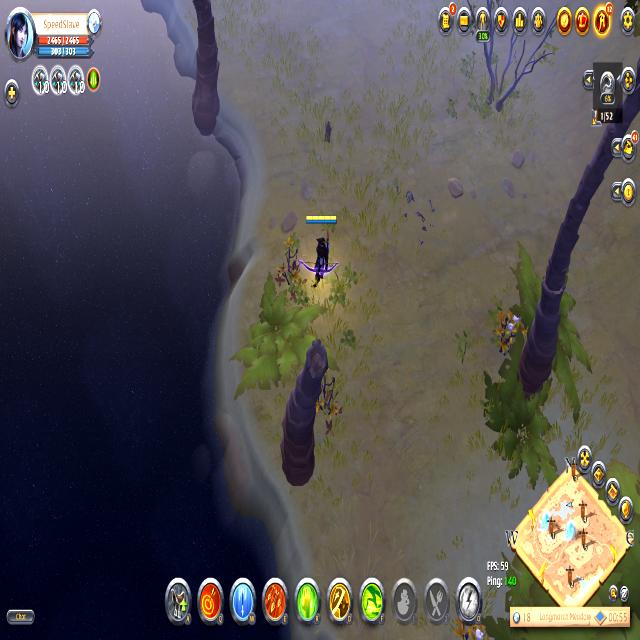hide: (493, 306, 523, 350)
red: (303, 210, 339, 284)
